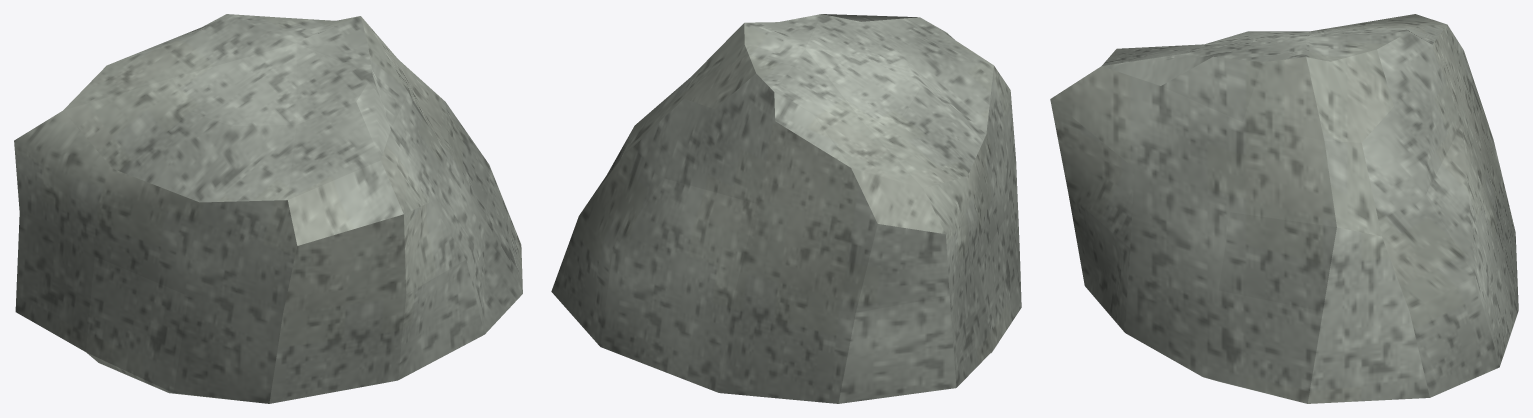
File: rock-b.glb
3 views of the same model, side by side, from view 1: azimuth 30°, elevation 25°; view 2: azimuth 150°, elevation 25°; view 3: azimuth 270°, elevation 25° (orthographic). The views are drawn at different scales.
Parts seen in each view (by area): view 1: gather-rock-b; view 2: gather-rock-b; view 3: gather-rock-b.
Boxes of the visible parts, x1=… form: gather-rock-b: x1=14, y1=14, x2=522, y2=403; gather-rock-b: x1=551, y1=14, x2=1021, y2=403; gather-rock-b: x1=1050, y1=14, x2=1518, y2=403.
Bounding box in the file's own units: 0.916 × 0.587 × 0.836.
Materials: 1 (1 with a texture image).
